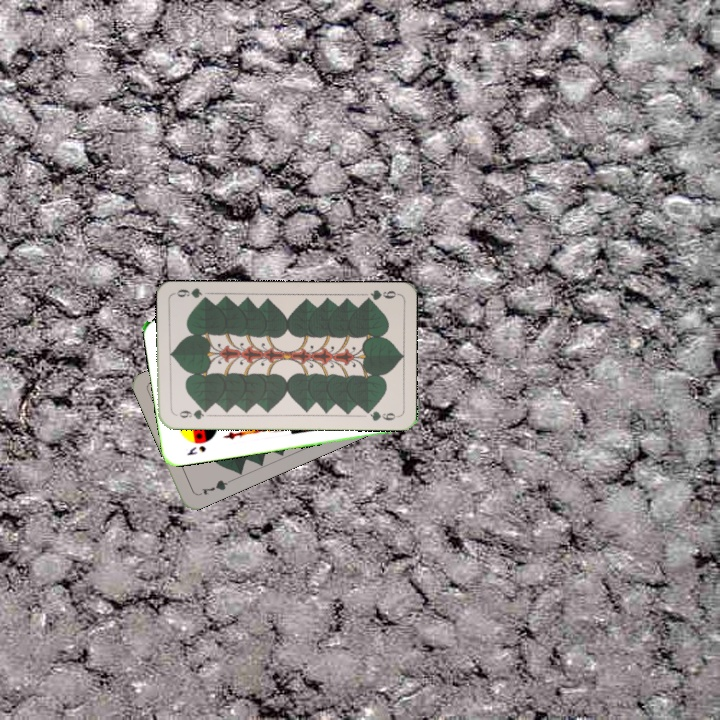G7: (194, 476, 233, 498)
G9: (360, 286, 400, 305), (175, 405, 211, 422)
SK: (183, 442, 208, 458)
